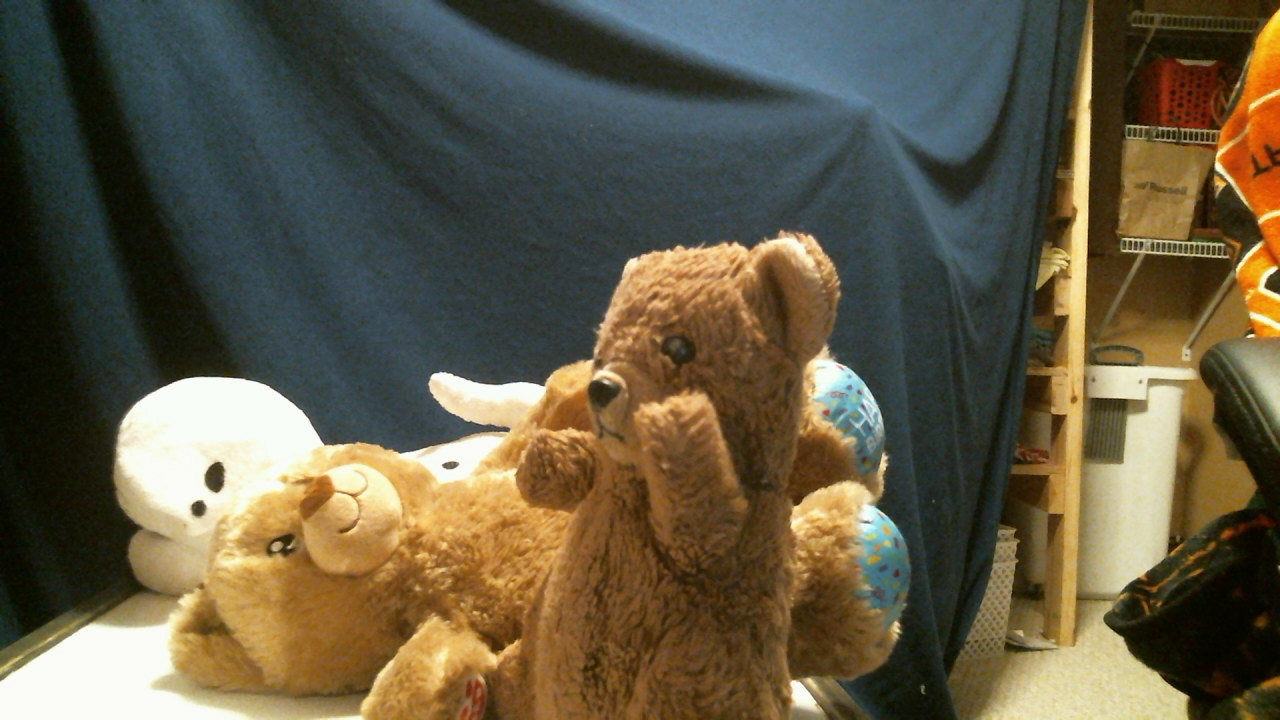Little_Mister_Bear: (595, 336, 749, 457)
